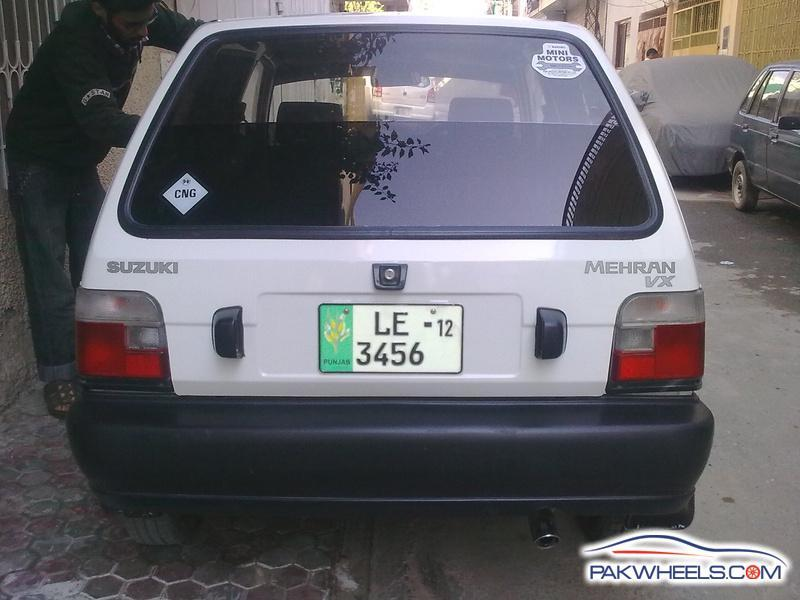Number Plate (Car): (319, 306, 462, 372)
